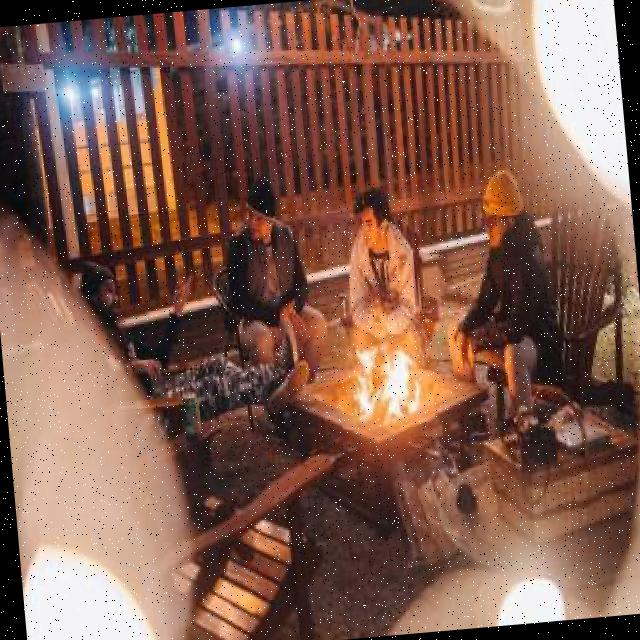fire: (334, 330, 436, 430)
